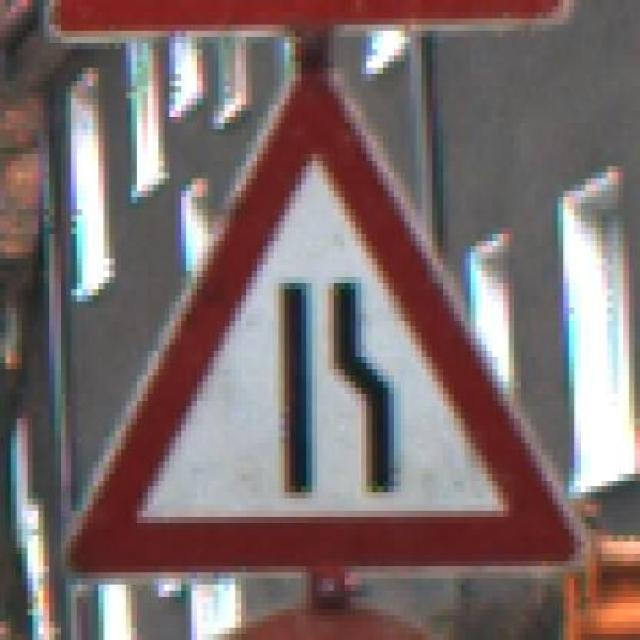-Road narrows on right: (49, 49, 597, 578)
